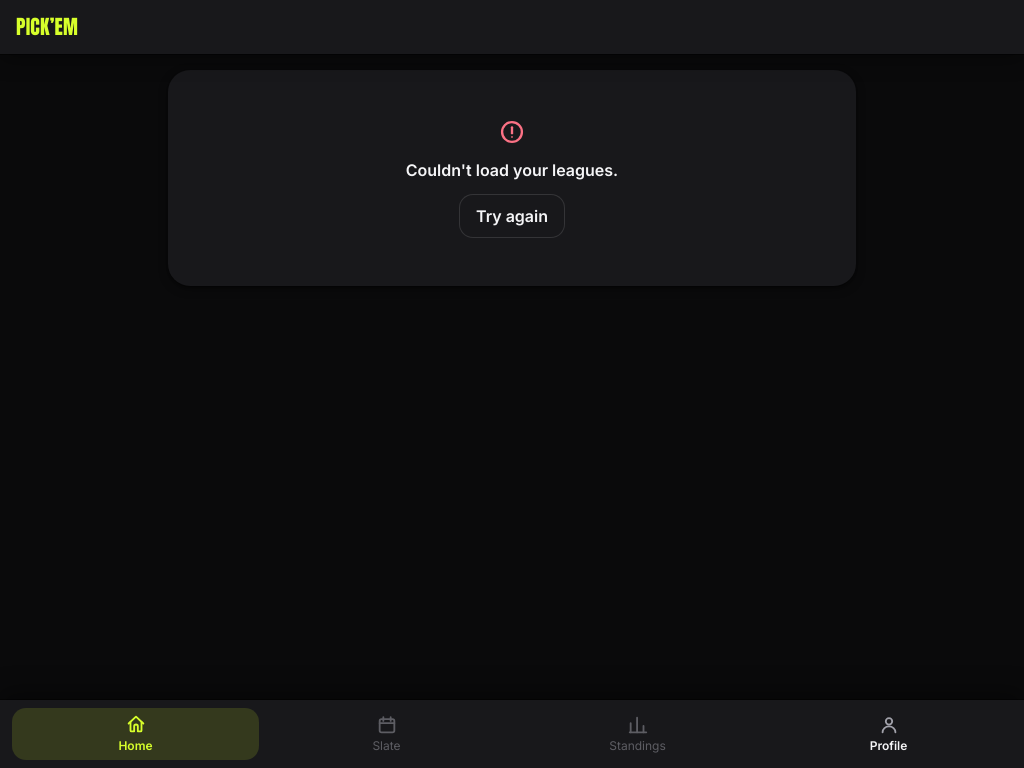
HomeScreen › shows an error state with retry on load failure
Expected: the text "Couldn't load your leagues." is shown, left=406, top=158, right=618, bottom=182
Click the button "Try again". click: (512, 216)
box: left=459, top=194, right=565, bottom=238
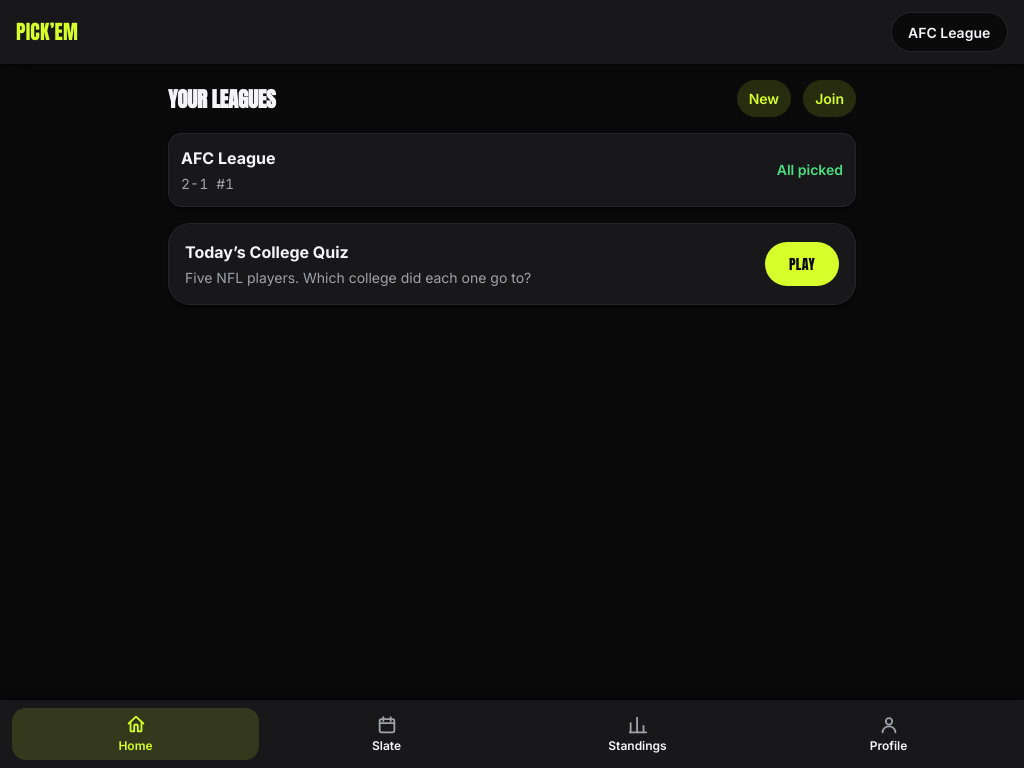
Expected: the link "AFC League 2-1 #1 All picked" is shown, left=168, top=133, right=856, bottom=207
